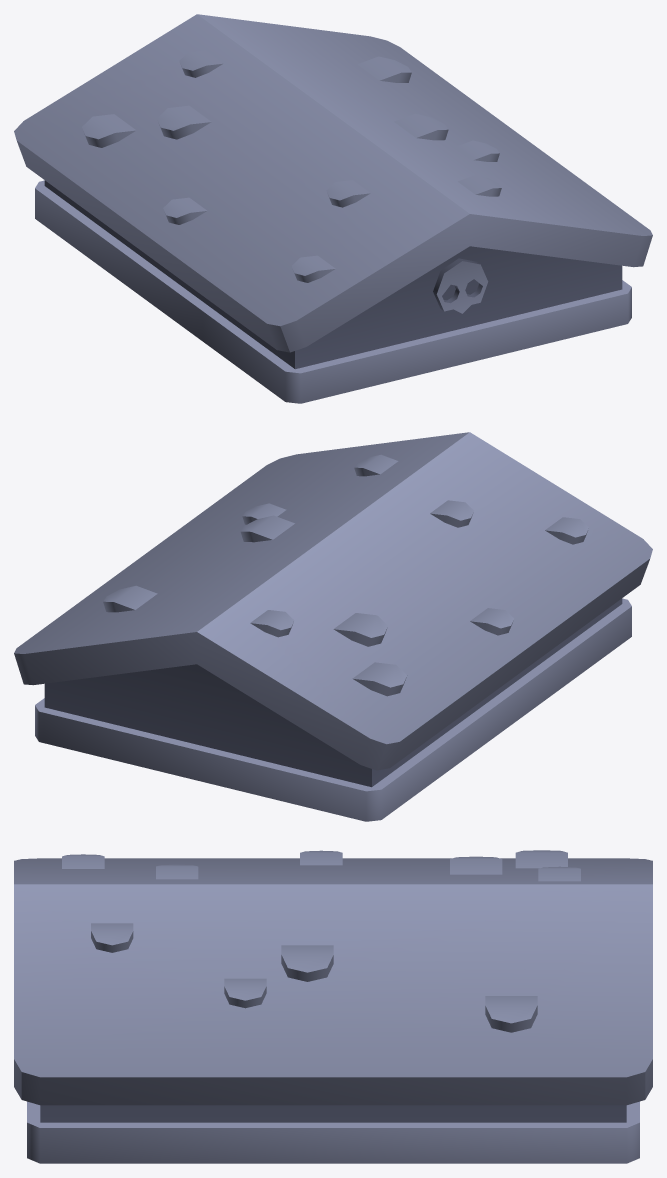
The model's file is crypt-large-roof.glb.
3 renders of one model, top to bottom at view 1: azimuth 30°, elevation 25°; view 2: azimuth 150°, elevation 25°; view 3: azimuth 270°, elevation 25°, orthographic. The views are drawn at different scales.
Visible parts, largest first — view 1: crypt-large-roof; view 2: crypt-large-roof; view 3: crypt-large-roof.
Boxes of the visible parts, x1,y1,x2,y2 form: crypt-large-roof: (14,14,652,403); crypt-large-roof: (14,432,652,821); crypt-large-roof: (14,850,652,1163).
Bounding box in the file's own units: 1.98 × 0.7593 × 2.44.
